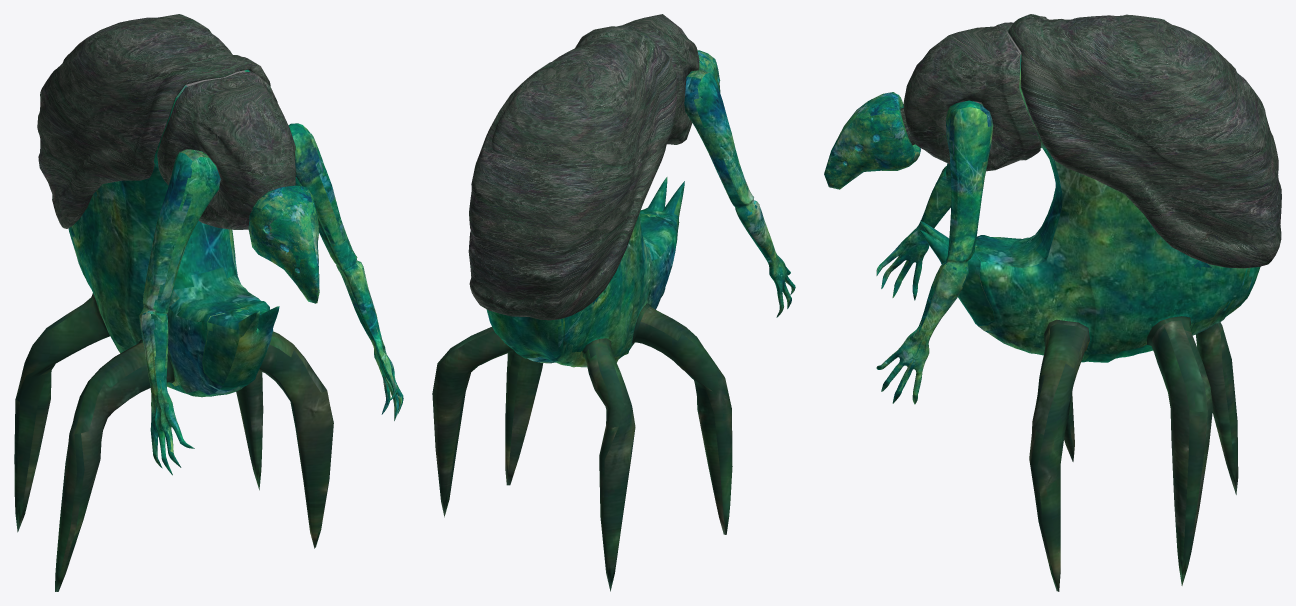
The model's file is Andar.0022.obj.
3 renders of one model, left to right at view 1: azimuth 30°, elevation 25°; view 2: azimuth 150°, elevation 25°; view 3: azimuth 270°, elevation 25°, orthographic. The views are drawn at different scales.
Visible parts, largest first — view 1: pCube14; view 2: pCube14; view 3: pCube14.
Part boxes in pixels (x1=…): pCube14: x1=14, y1=14, x2=403, y2=591; pCube14: x1=432, y1=14, x2=795, y2=591; pCube14: x1=824, y1=14, x2=1281, y2=591.
Bounding box in the file's own units: 2.08 × 3.94 × 3.18.
Materials: 5 (4 with a texture image).
